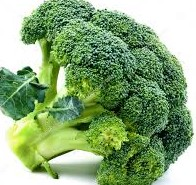Broccoli: (0, 0, 196, 182)
